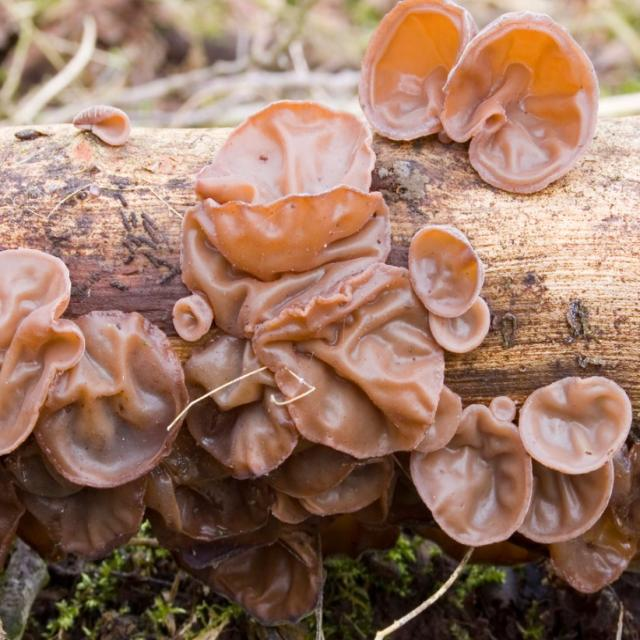Fase Muda: (10, 1, 622, 601)
